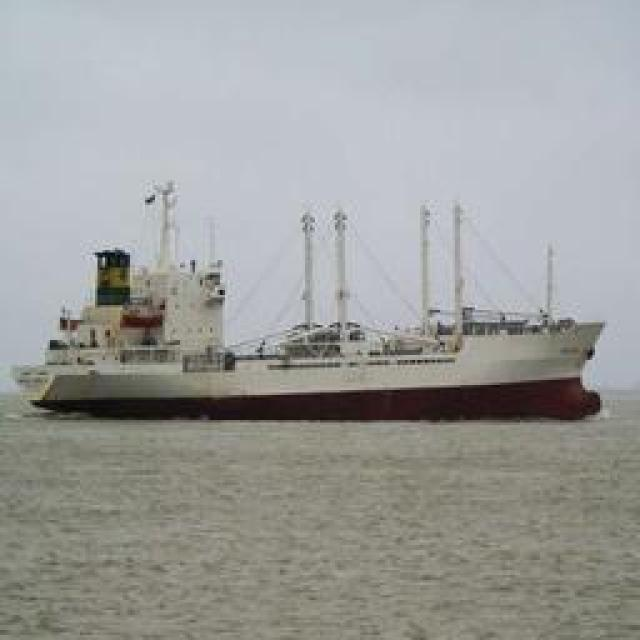ship2: (14, 180, 605, 422)
